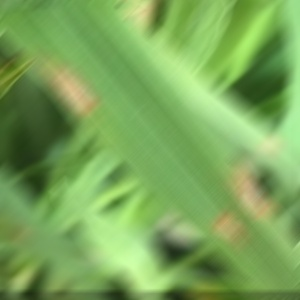Brown_Spot: (30, 40, 109, 119), (219, 159, 287, 226), (202, 210, 267, 243)
